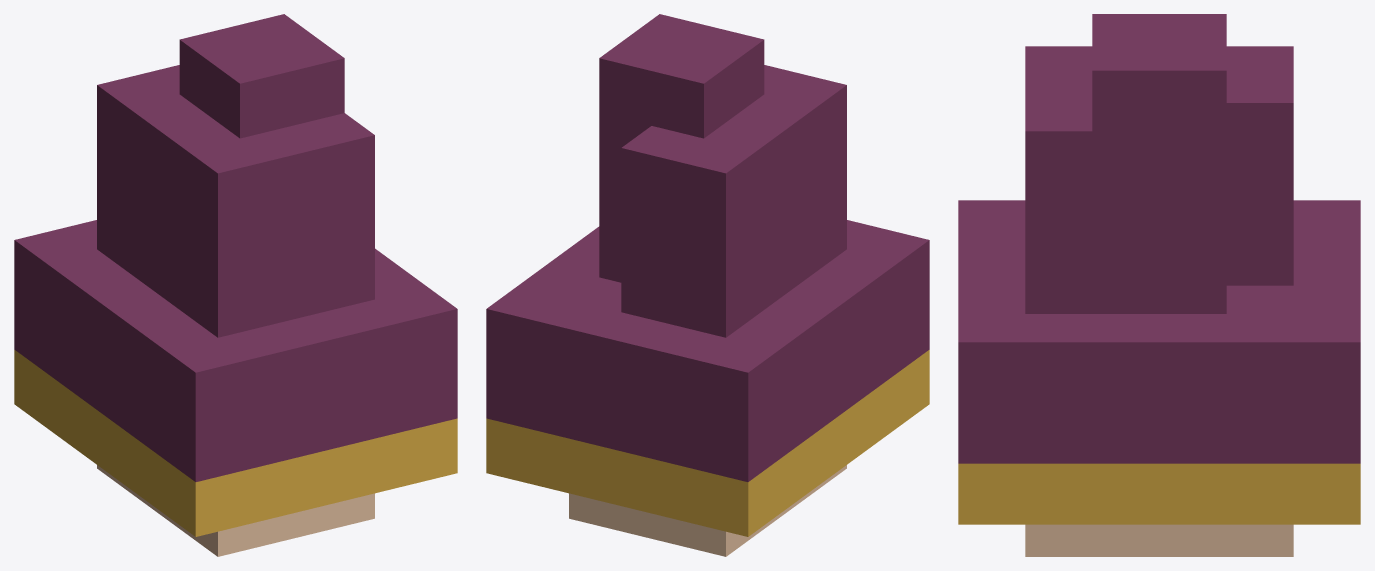
Rendered from wizard__arm_l.glb.
The picture shows the model from 3 angles, left to right: view 1: azimuth 30°, elevation 25°; view 2: azimuth 150°, elevation 25°; view 3: azimuth 270°, elevation 25°; orthographic projection. The views are drawn at different scales.
Parts seen in each view (by area): view 1: wizard__arm_l; view 2: wizard__arm_l; view 3: wizard__arm_l.
Boxes of the visible parts, x1,y1,x2,y2 form: wizard__arm_l: (14,14,457,556); wizard__arm_l: (486,14,929,556); wizard__arm_l: (958,14,1360,556).
Size of the model in its own units: 0.5 by 0.8 by 0.6.
Materials: 1 (1 with a texture image).
